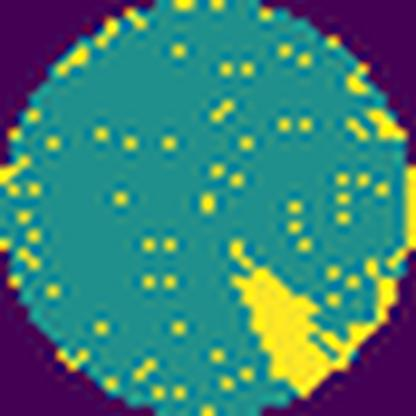Loc: (232, 238, 330, 398)
